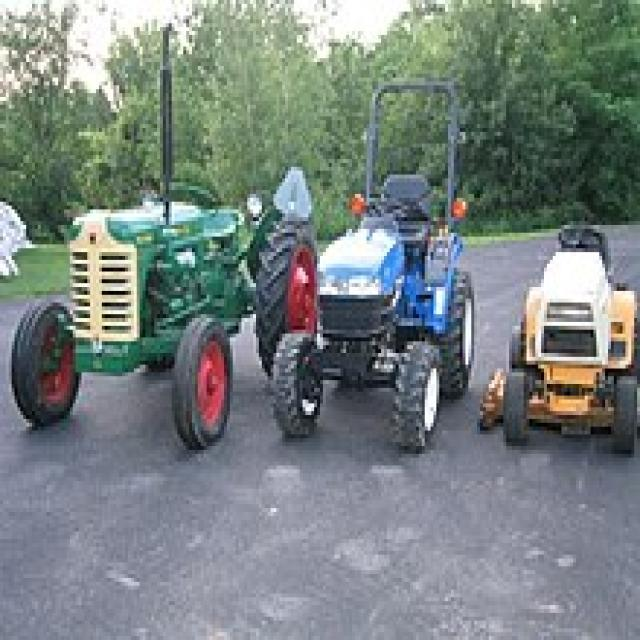Tratores - v5 YOLO V8L 2024-11-13: (5, 15, 312, 450), (271, 74, 477, 450), (486, 214, 638, 454)
